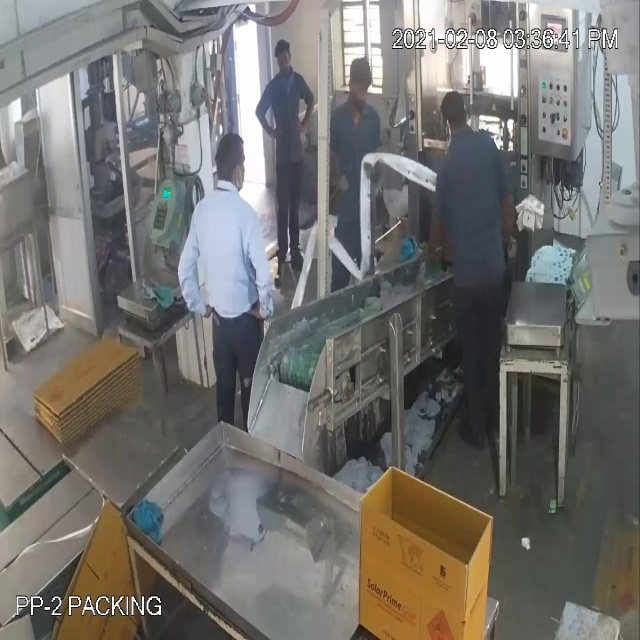Sin_guantes: (243, 222, 277, 326), (174, 220, 209, 316), (253, 91, 282, 145), (293, 77, 318, 134)
